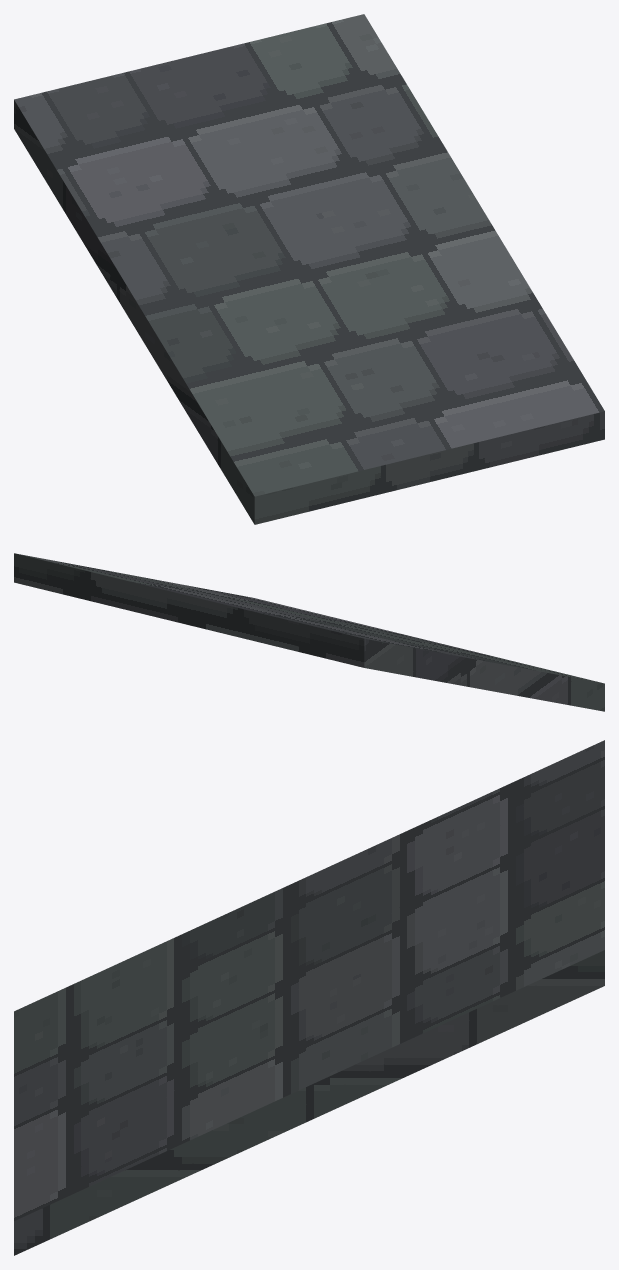
File: pentice_roof.glb
3 renders of one model, top to bottom at view 1: azimuth 30°, elevation 25°; view 2: azimuth 150°, elevation 25°; view 3: azimuth 270°, elevation 25°, orthographic. The views are drawn at different scales.
Parts seen in each view (by area): view 1: Pentice roof; view 2: Pentice roof; view 3: Pentice roof.
Boxes of the visible parts, x1=… form: Pentice roof: x1=14, y1=14, x2=604, y2=524; Pentice roof: x1=14, y1=553, x2=604, y2=711; Pentice roof: x1=14, y1=740, x2=604, y2=1255.
Bounding box in the file's own units: 1 × 0.68 × 1.19.
1 material, 1 textured.
